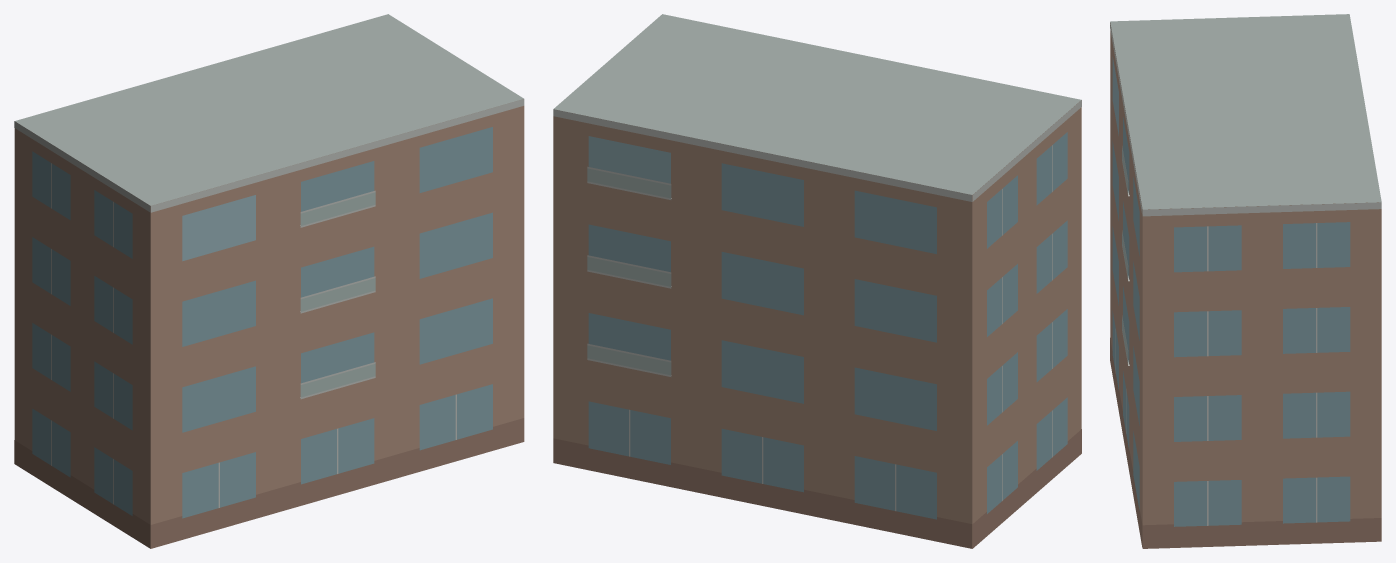
File: residential-116da86f-4aa7-4e57-9d28-d4bcf3b533f0.glb
3 views of the same model, side by side, from view 1: azimuth 30°, elevation 25°; view 2: azimuth 150°, elevation 25°; view 3: azimuth 270°, elevation 25° (orthographic). The views are drawn at different scales.
Parts seen in each view (by area): view 1: residential-116da86f-4aa7-4e57-9d28-d4bcf3b533f0.tmp; view 2: residential-116da86f-4aa7-4e57-9d28-d4bcf3b533f0.tmp; view 3: residential-116da86f-4aa7-4e57-9d28-d4bcf3b533f0.tmp.
Part boxes in pixels (x1=…): residential-116da86f-4aa7-4e57-9d28-d4bcf3b533f0.tmp: x1=14, y1=14, x2=524, y2=548; residential-116da86f-4aa7-4e57-9d28-d4bcf3b533f0.tmp: x1=553, y1=14, x2=1081, y2=548; residential-116da86f-4aa7-4e57-9d28-d4bcf3b533f0.tmp: x1=1110, y1=14, x2=1381, y2=548.
Bounding box in the file's own units: 15.09 × 12.2 × 8.86.
